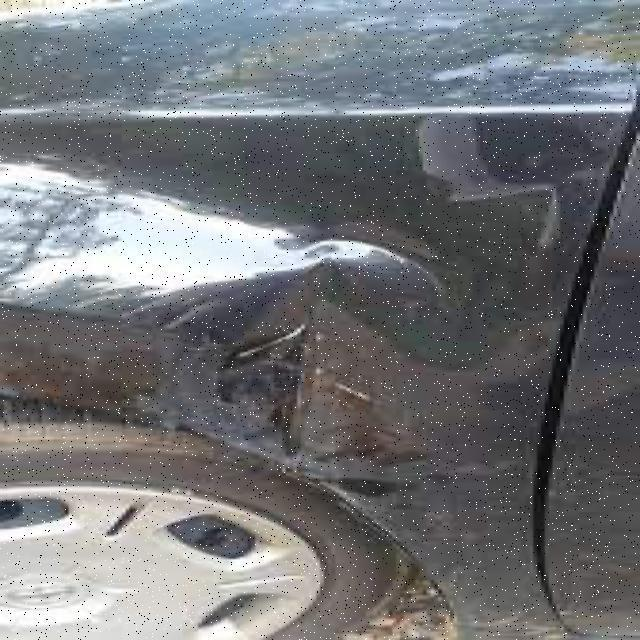fender-dent: (0, 19, 595, 540)
